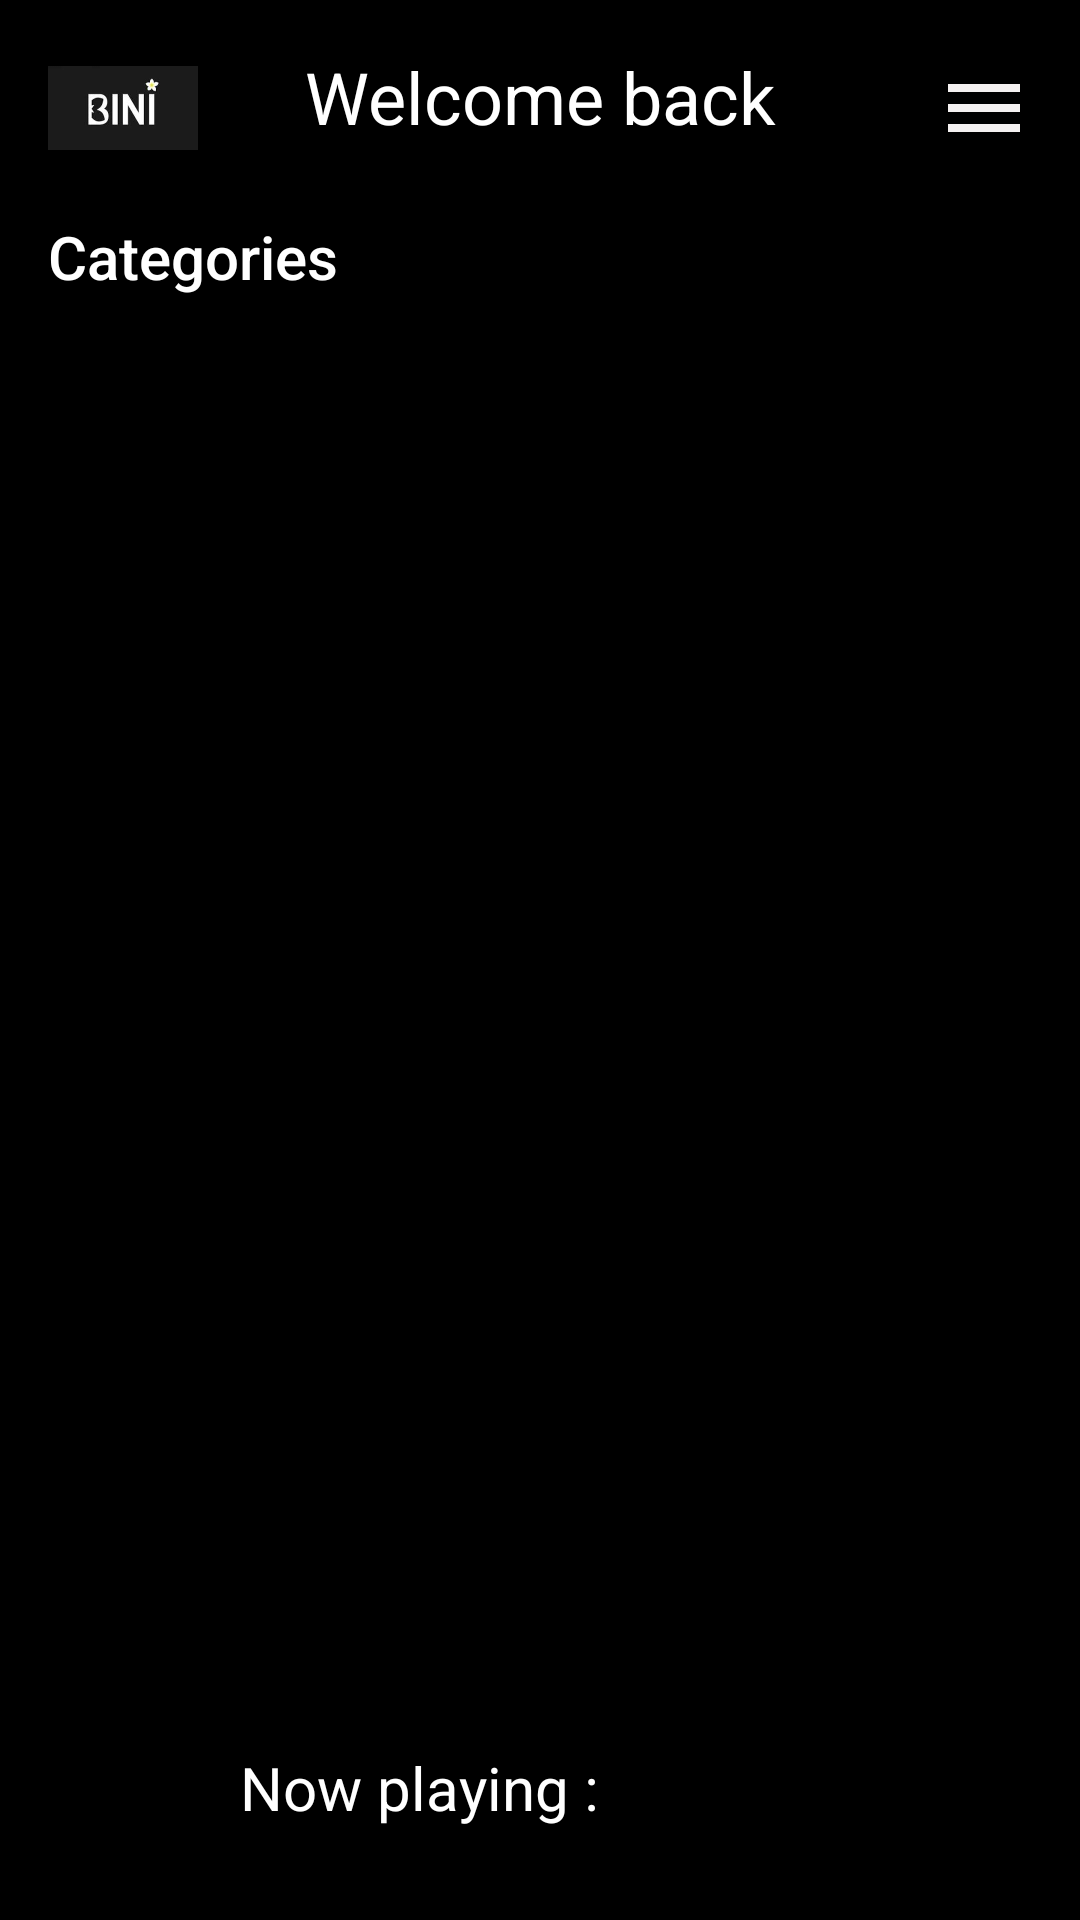

Icons on this 1080x1920 Android screen, each with its box as (x1, y1, x2, y2):
menu: (948, 84, 1020, 132)
